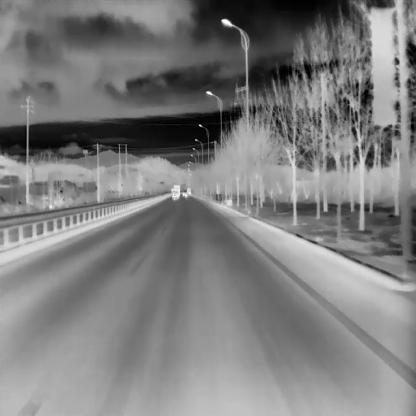car: (172, 190, 178, 199), (182, 189, 187, 197)
truck: (173, 184, 179, 195)
